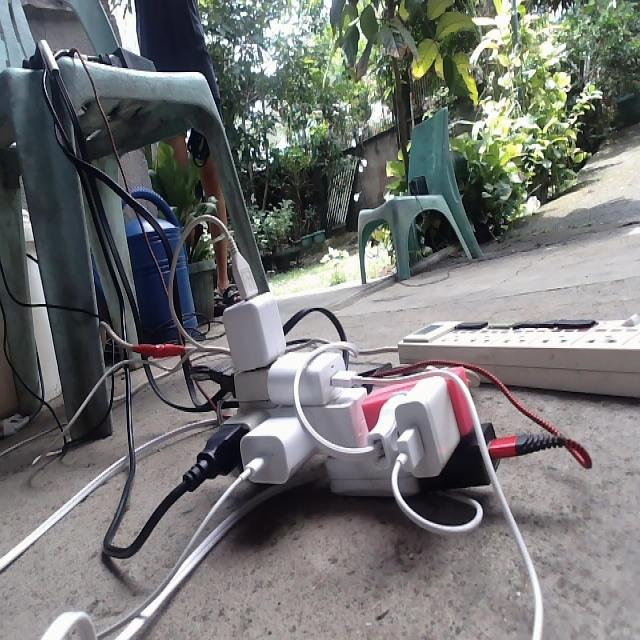-: (193, 266, 501, 494)
